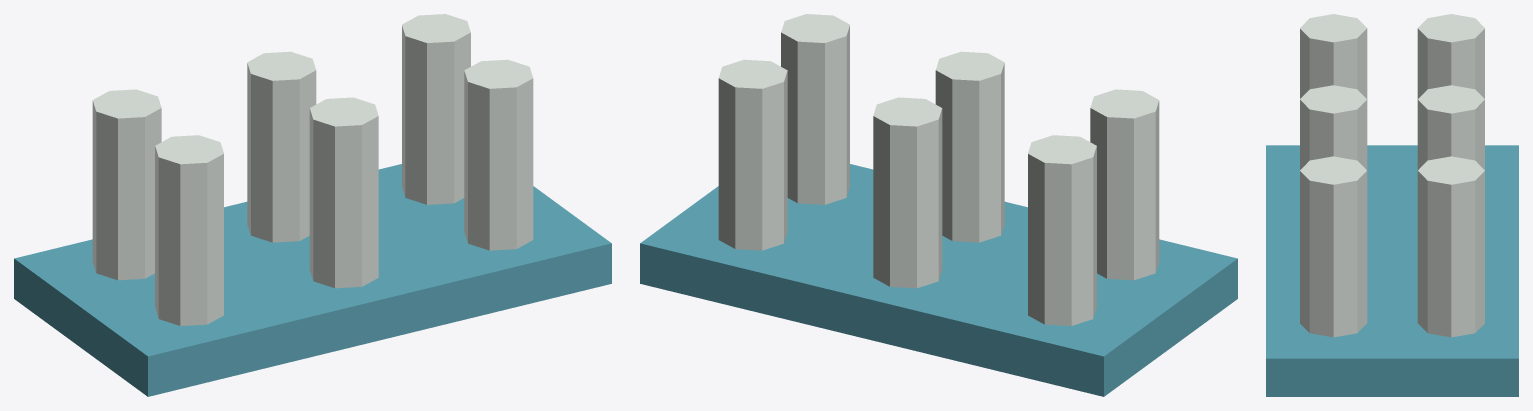
The model's file is laboratory-sampling-rack.glb.
3 renders of one model, left to right at view 1: azimuth 30°, elevation 25°; view 2: azimuth 150°, elevation 25°; view 3: azimuth 270°, elevation 25°, orthographic. The views are drawn at different scales.
Parts seen in each view (by area): view 1: cream, blue; view 2: cream, blue; view 3: cream, blue.
Boxes of the visible parts, x1,y1,x2,y2 form: cream: [92, 14, 533, 325]; blue: [14, 164, 611, 396]; cream: [718, 14, 1159, 325]; blue: [640, 164, 1237, 396]; cream: [1300, 14, 1484, 337]; blue: [1266, 145, 1518, 396].
Size of the model in its own units: 0.6 by 0.25 by 0.3.
